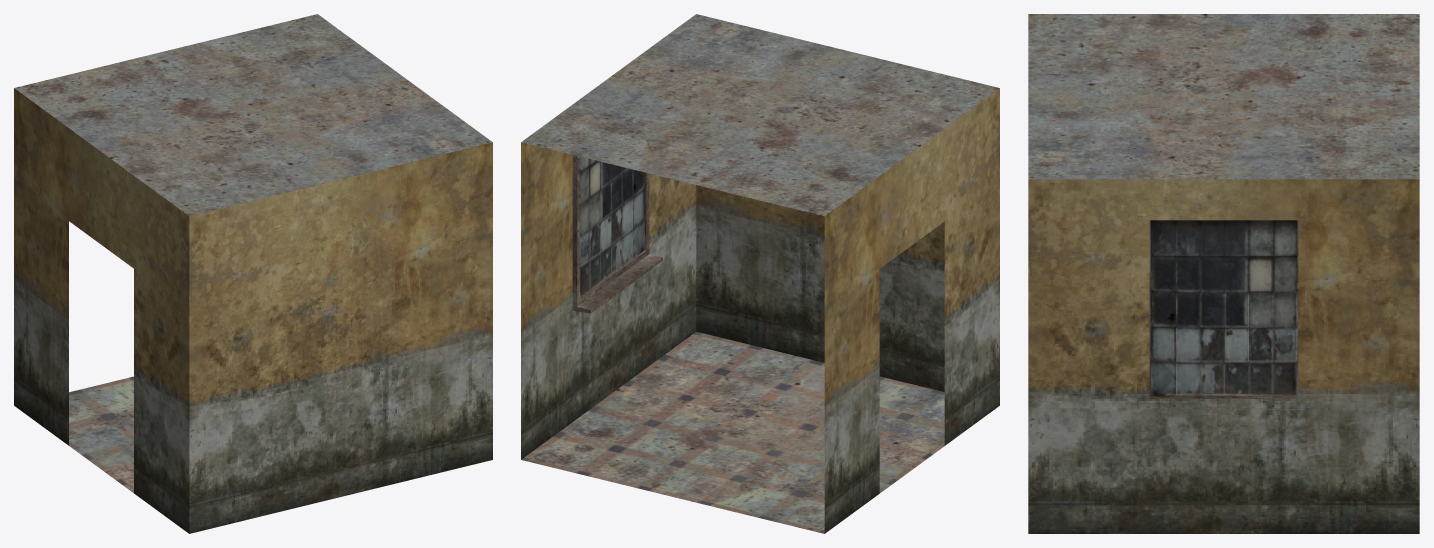
File: _Corridor_part12.FBX
The picture shows the model from 3 angles, left to right: view 1: azimuth 30°, elevation 25°; view 2: azimuth 150°, elevation 25°; view 3: azimuth 270°, elevation 25°; orthographic projection. The views are drawn at different scales.
Visible parts, largest first — view 1: Corridor_Part12; view 2: Corridor_Part12; view 3: Corridor_Part12.
Part boxes in pixels (x1,y1,x2,y2): Corridor_Part12: [14, 14, 492, 533]; Corridor_Part12: [521, 14, 999, 533]; Corridor_Part12: [1028, 14, 1419, 533].
Bounding box in the file's own units: 254 × 254 × 254.
Materials: 5 (5 with a texture image).
